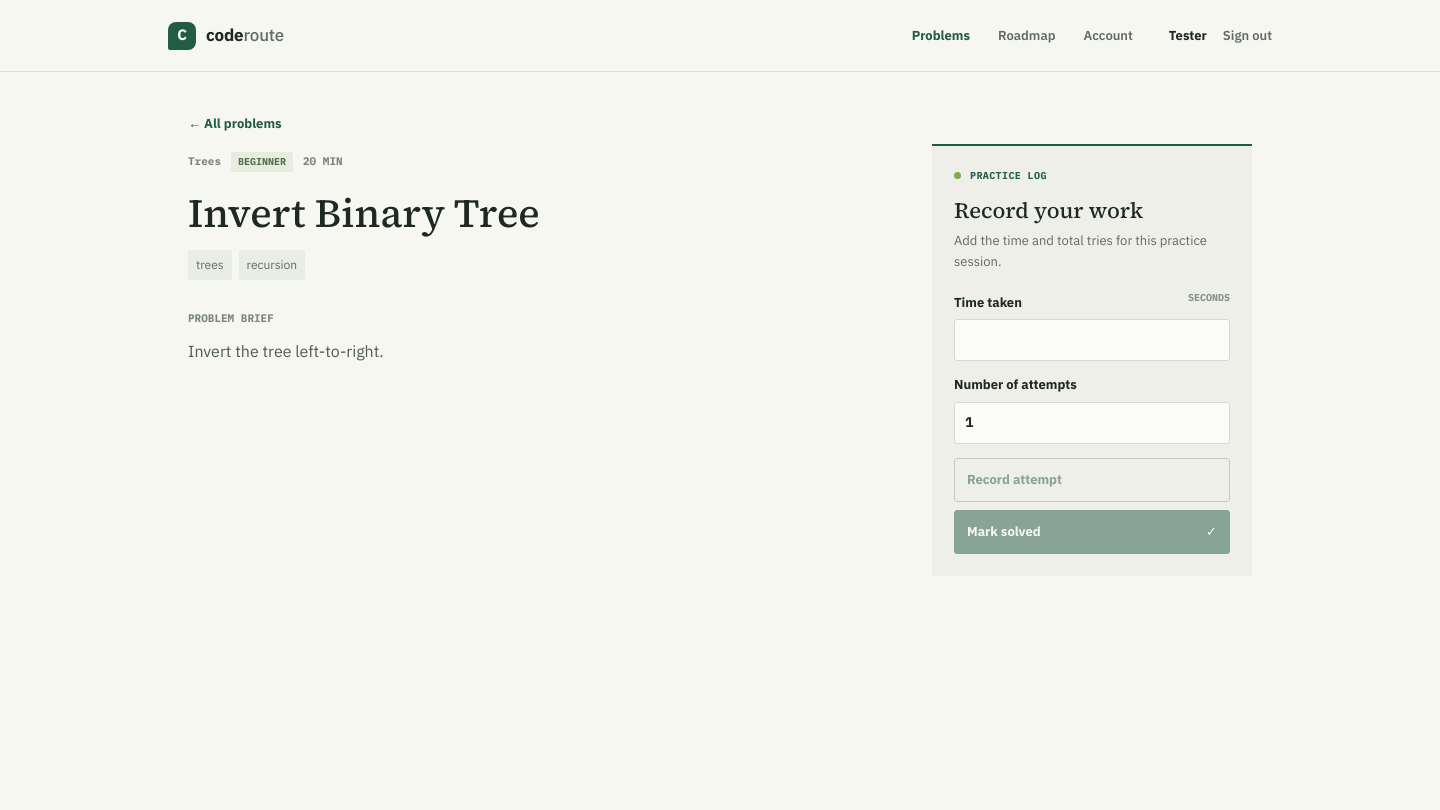
ProblemDetailPage Component › validates attempt inputs client-side before sending API request
Expected: the heading "Invert Binary Tree" is shown, [188,186,540,240]
Enter negative time
Type "-10" into the number field labelled "Time taken SECONDS".
click(1092, 340); type("-10")  # box [954,320,1230,362]
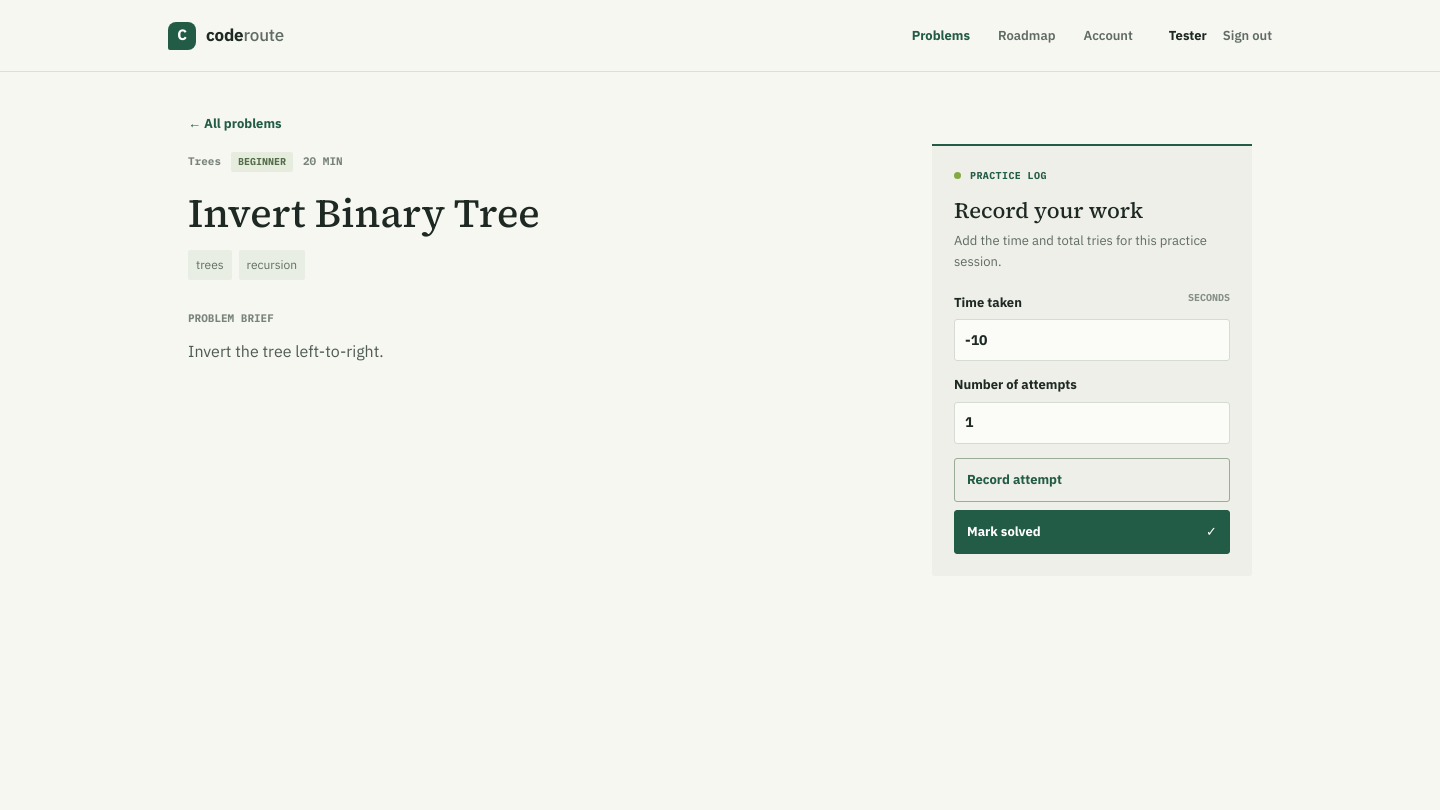
Click the button "Mark solved ✓".
click(1004, 532)  # box [954,510,1230,554]
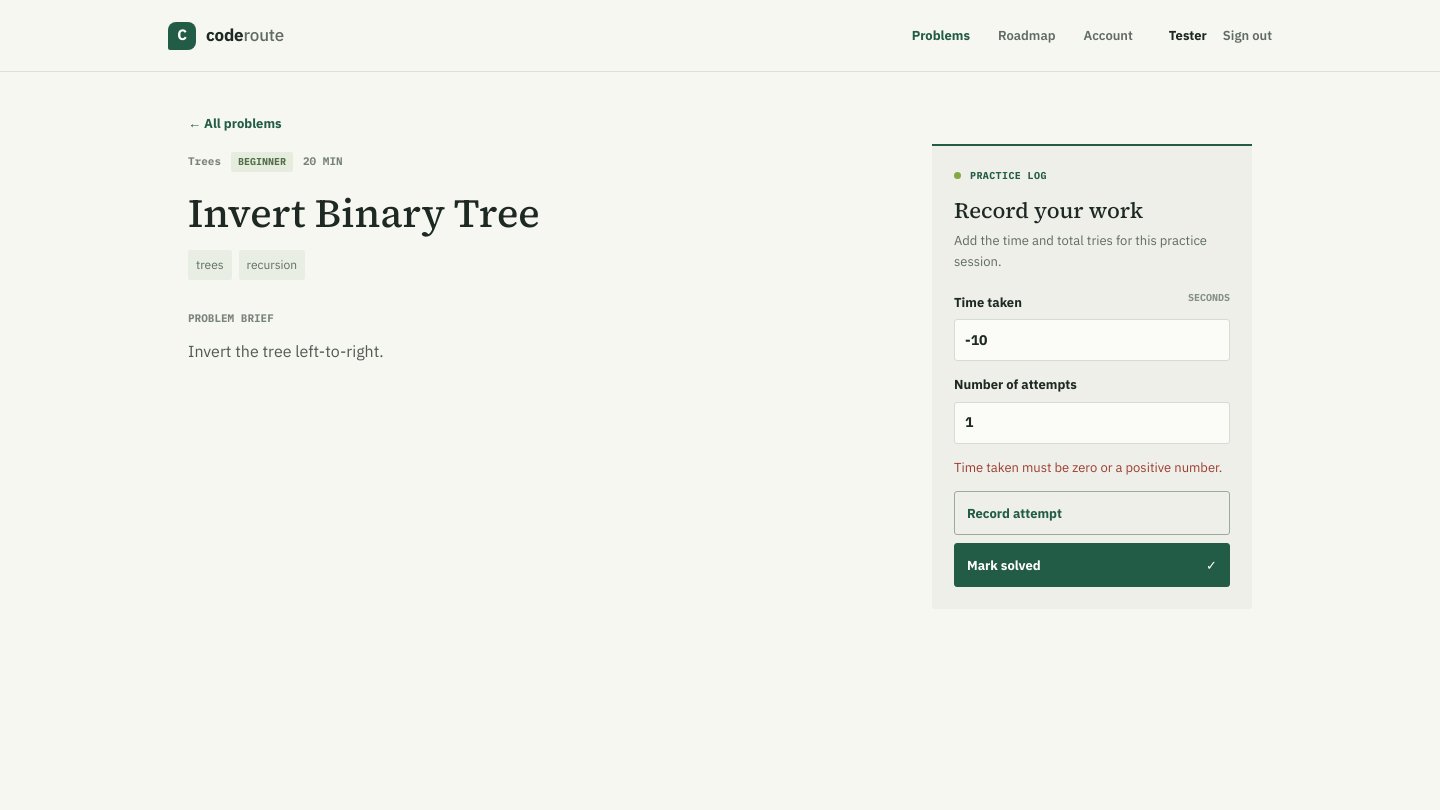
Expected: the message with test id "attempt-action-error" reads "Time taken must be zero or a positive number.", [954,459,1222,476]
